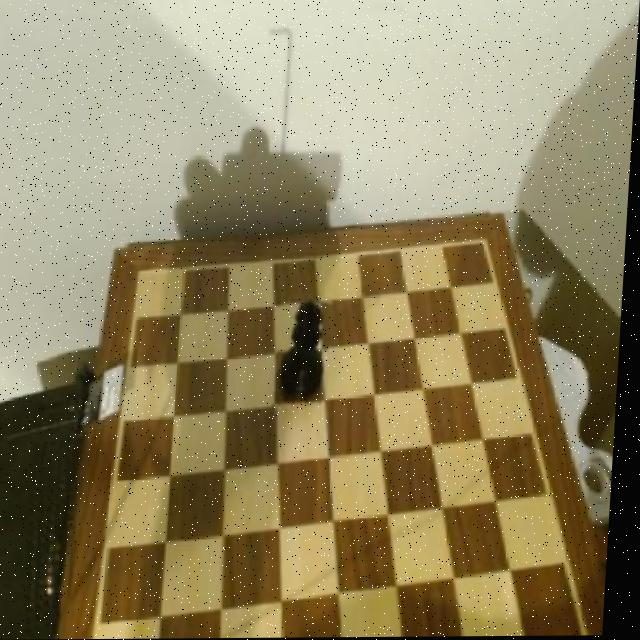black-pawn: (278, 298, 335, 411)
